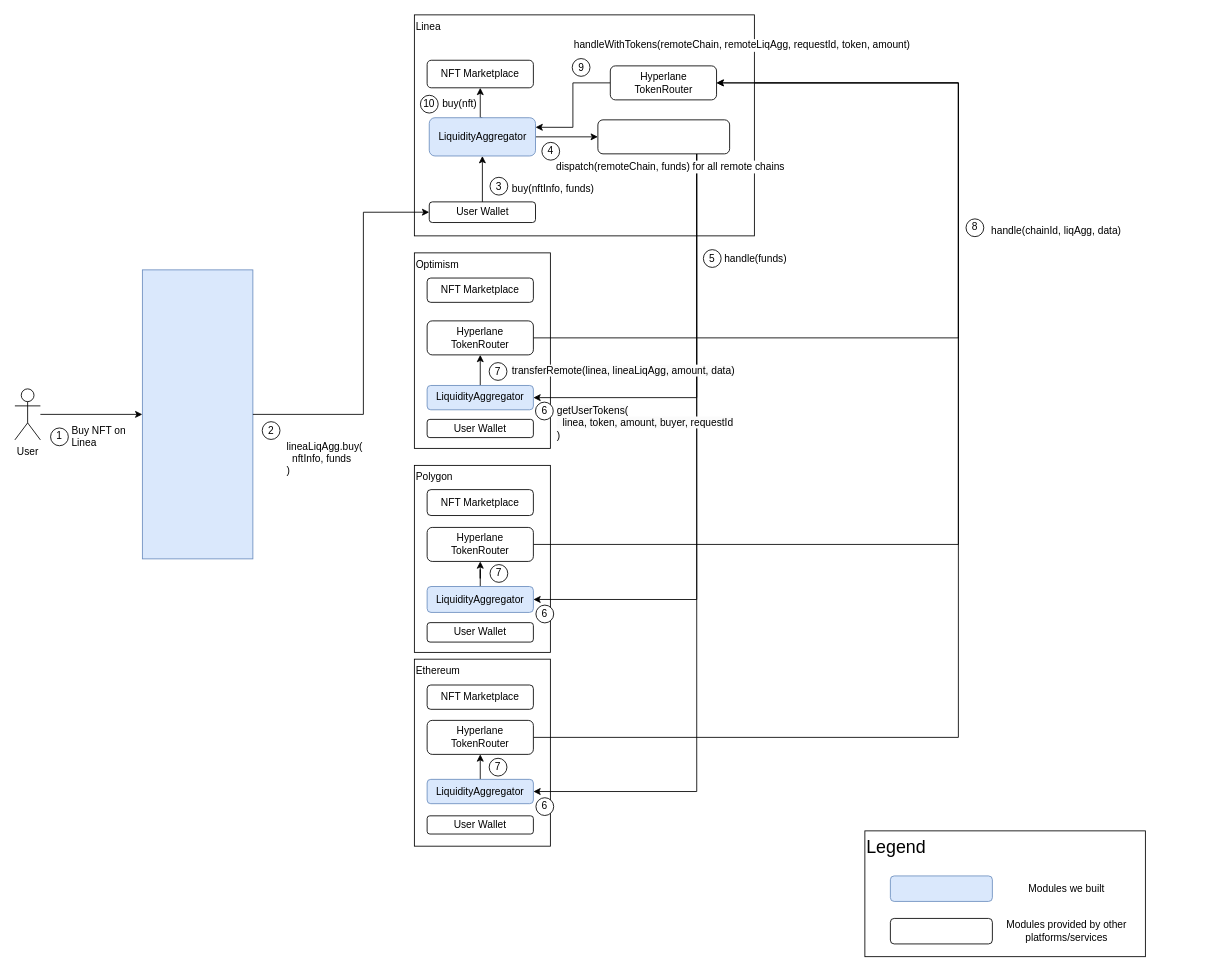
Some shapes in this 1210 by 972 pixel diagram are drawn without their labels. The centre of each missing label's shape, as x and y in pixels:
Accio.NFT Web + 1inch Fusioin API: point 197,414
Hyperlane Mailbox: point 663,136
